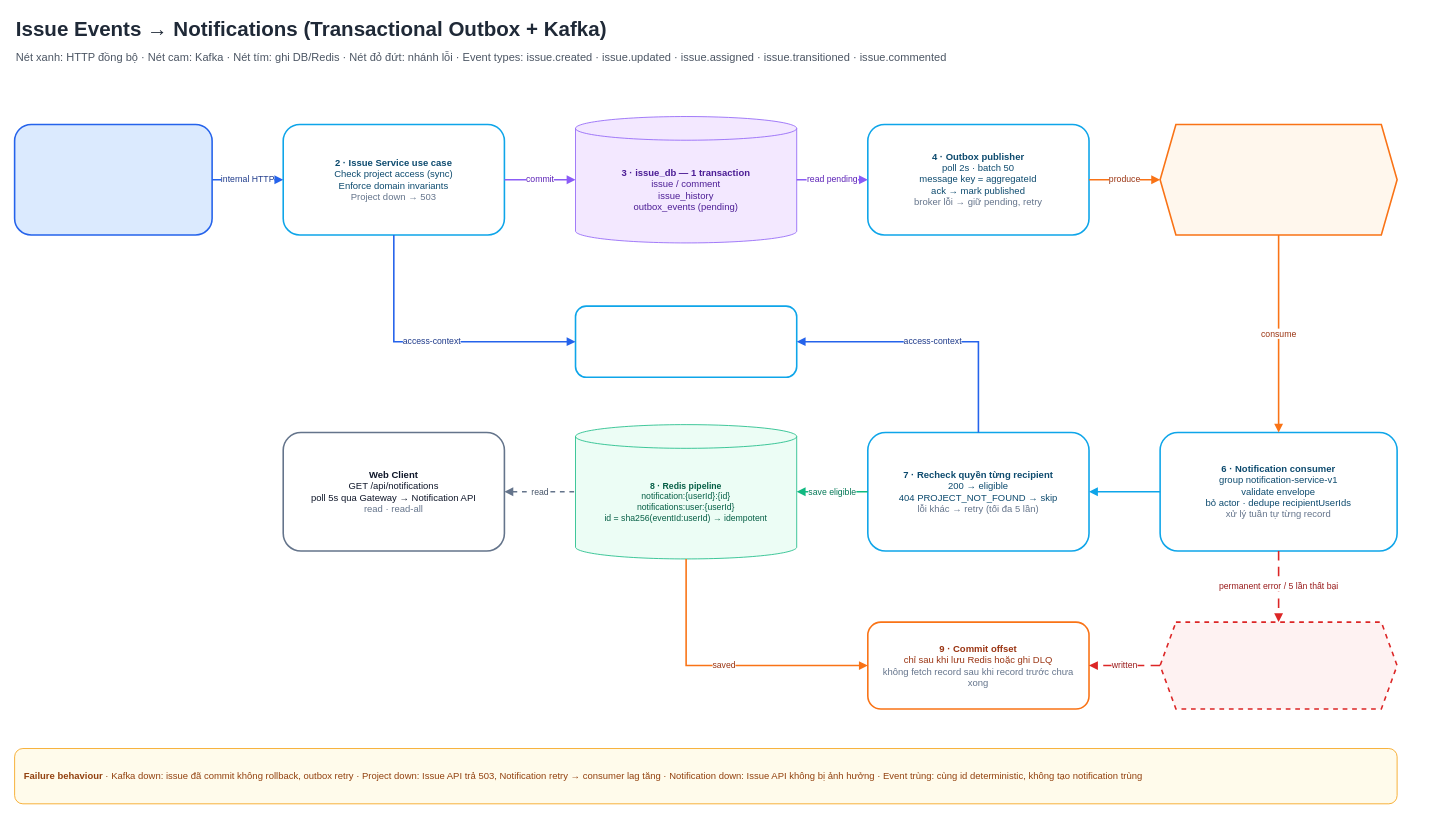
The diagram is 1450 pixels wide and 818 high, and some of its shapes have lost their labels. The shapes that lost their labels are listed below. From the top down, each one's centre as x and y in pixels, then its label:
At pixel 113 179: "1 · API Gateway Issue command /api/... JWT · correlation ID".
At pixel 1278 179: "5 · Redpanda / Kafka issue.events.v1 envelope schemaVersion 1".
At pixel 685 341: "Project Service GET /internal/projects/{id}/access-context".
At pixel 1278 665: "issue.events.v1.dlq.v1 original message + header failure-reason".
